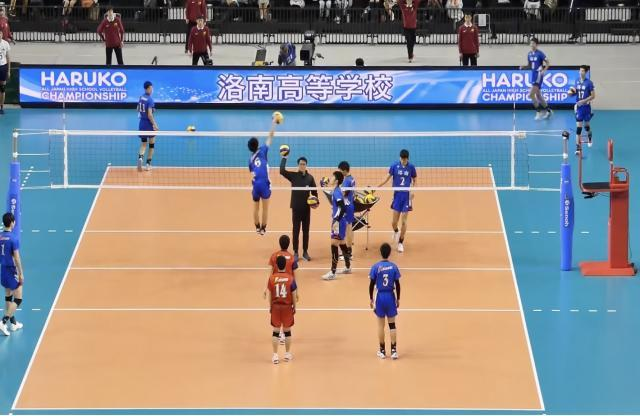spike: (244, 110, 282, 240)
